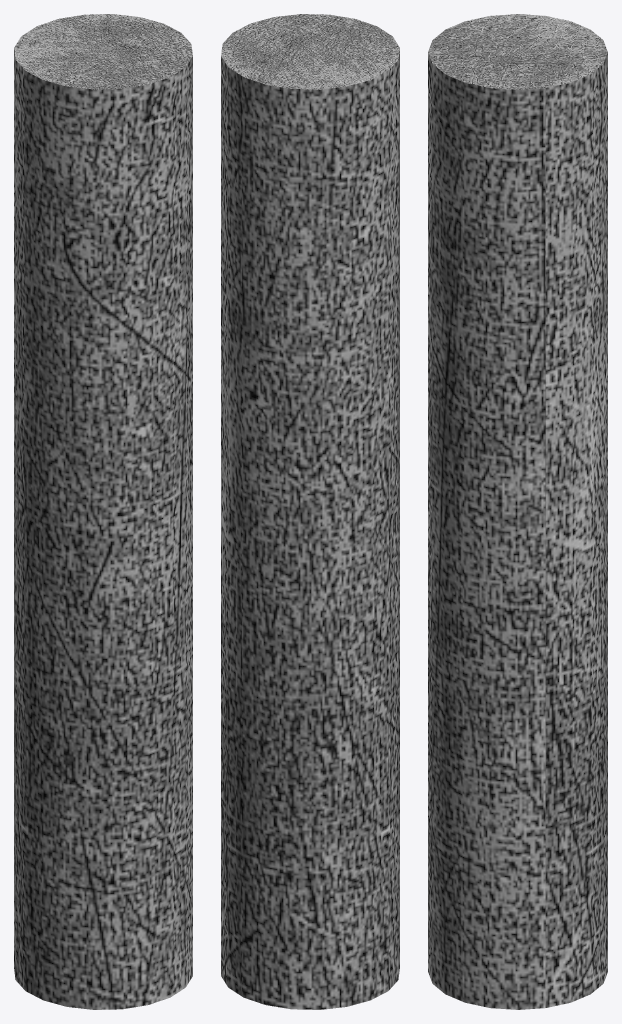
The model's file is pistonUp.obj.
3 views of the same model, side by side, from view 1: azimuth 30°, elevation 25°; view 2: azimuth 150°, elevation 25°; view 3: azimuth 270°, elevation 25° (orthographic).
Visible parts, largest first — view 1: pCylinder8; view 2: pCylinder8; view 3: pCylinder8.
Boxes of the visible parts, <box> form: pCylinder8: <box>14,14,192,1009</box>; pCylinder8: <box>221,14,399,1009</box>; pCylinder8: <box>428,14,607,1009</box>.
Size of the model in its own units: 2 by 11.29 by 2.
Materials: 1 (1 with a texture image).
